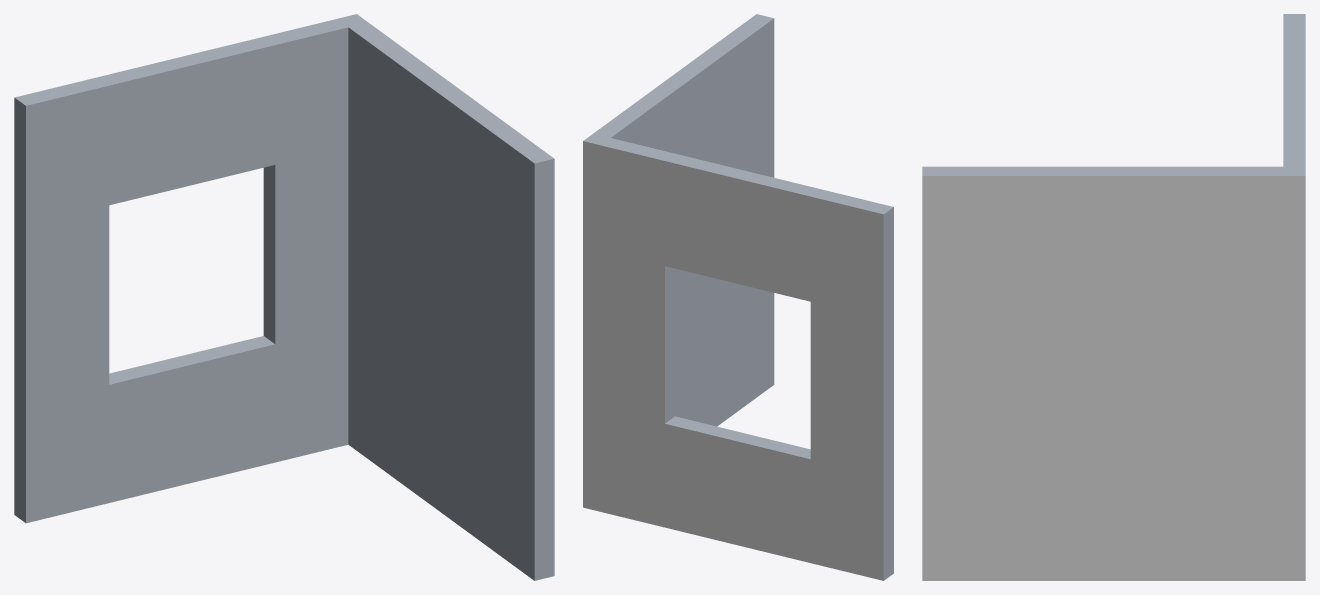
File: Wall1_C5_10.fbx
3 views of the same model, side by side, from view 1: azimuth 30°, elevation 25°; view 2: azimuth 150°, elevation 25°; view 3: azimuth 270°, elevation 25° (orthographic). The views are drawn at different scales.
Parts seen in each view (by area): view 1: Wall1_C5_10; view 2: Wall1_C5_10; view 3: Wall1_C5_10.
Boxes of the visible parts, left/top/right/bottom form: Wall1_C5_10: left=14, top=14, right=554, bottom=580; Wall1_C5_10: left=583, top=14, right=893, bottom=580; Wall1_C5_10: left=922, top=14, right=1305, bottom=580.
Size of the model in its own units: 258 by 300 by 258.
